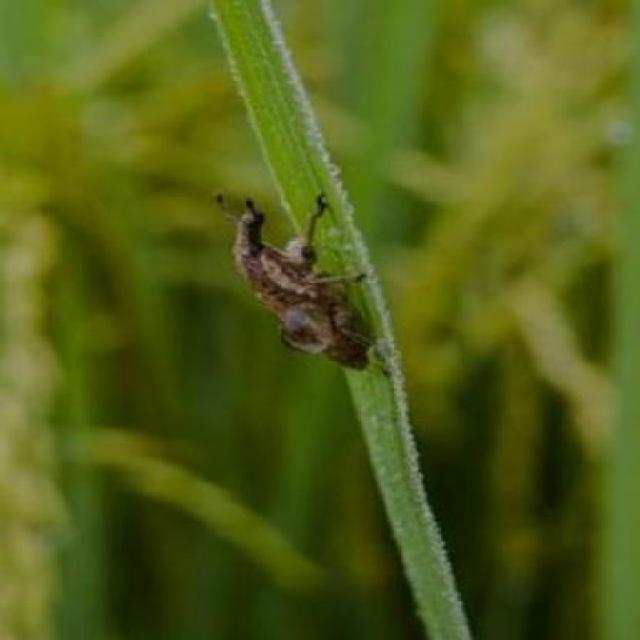rice-bug: (220, 188, 380, 366)
